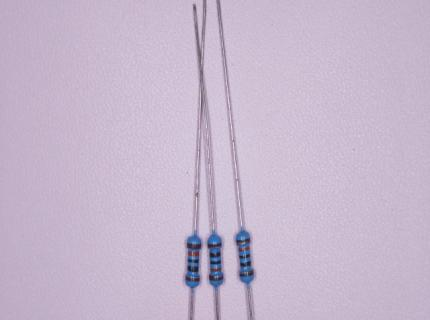Black band: (240, 260, 251, 267), (187, 265, 198, 272), (239, 254, 250, 259), (188, 258, 198, 263), (210, 252, 220, 257), (210, 261, 221, 265)
Brown band: (240, 270, 253, 277), (187, 243, 201, 249), (210, 275, 223, 281), (208, 243, 221, 248), (237, 238, 250, 243), (186, 277, 199, 281)
Orange band: (238, 245, 250, 251), (188, 251, 199, 256), (211, 267, 221, 272)
